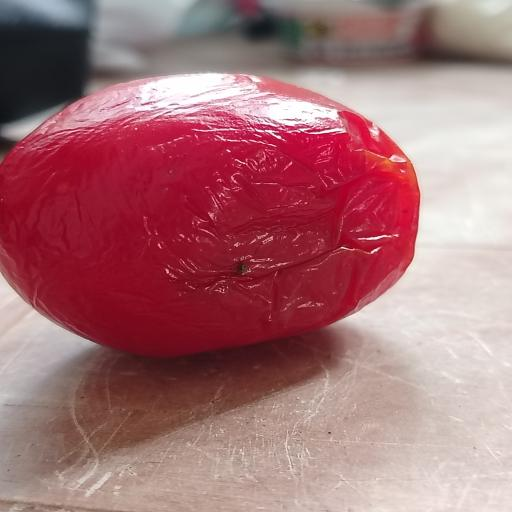spoiled: (0, 74, 419, 356)
